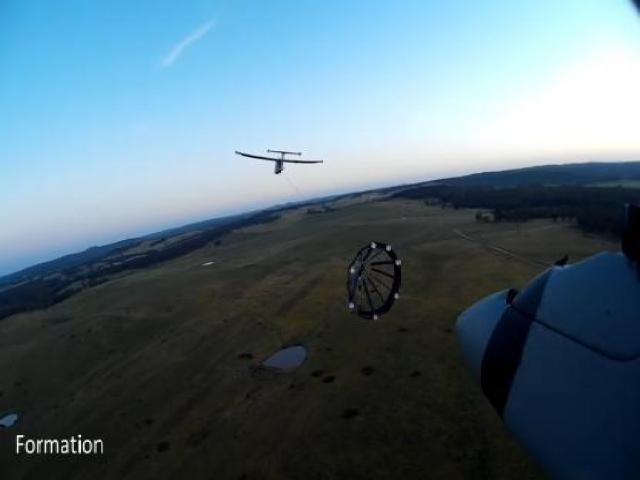uav: (220, 136, 326, 176)
